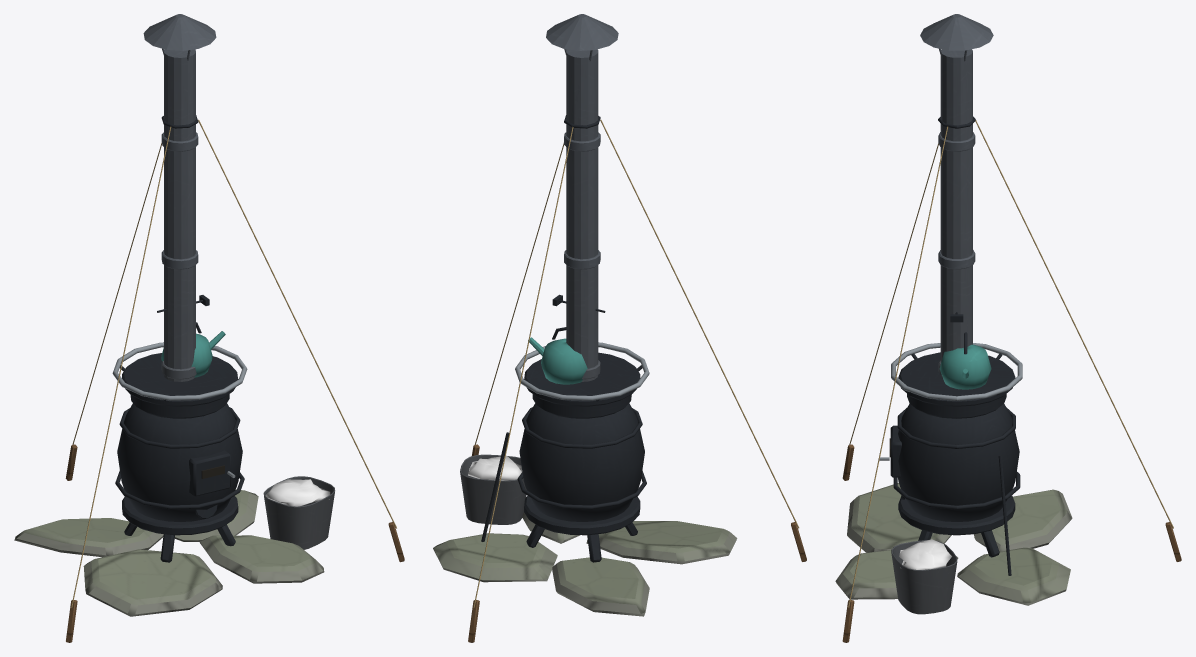
Rendered from stove_pot_belly.glb.
3 renders of one model, left to right at view 1: azimuth 30°, elevation 25°; view 2: azimuth 150°, elevation 25°; view 3: azimuth 270°, elevation 25°, orthographic.
Visible parts, largest first — view 1: stove_pot_belly; view 2: stove_pot_belly; view 3: stove_pot_belly.
Boxes of the visible parts, box(x1,y1,x2,y2) form: stove_pot_belly: box(14, 14, 404, 642); stove_pot_belly: box(433, 14, 806, 642); stove_pot_belly: box(835, 14, 1181, 642).
Size of the model in its own units: 1.8 by 2.78 by 1.6.
11 materials, 11 textured.
